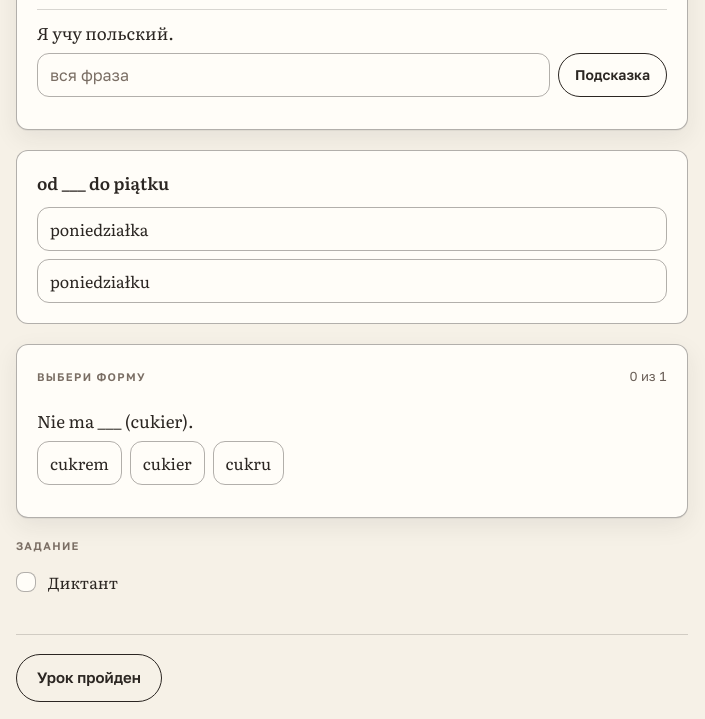
Test: CourseItemPage done bar › marks the lesson done and can undo it
(page scrolled)
Click the button "Урок пройден" at (89, 678), box [16,654,162,702]
(page scrolled)
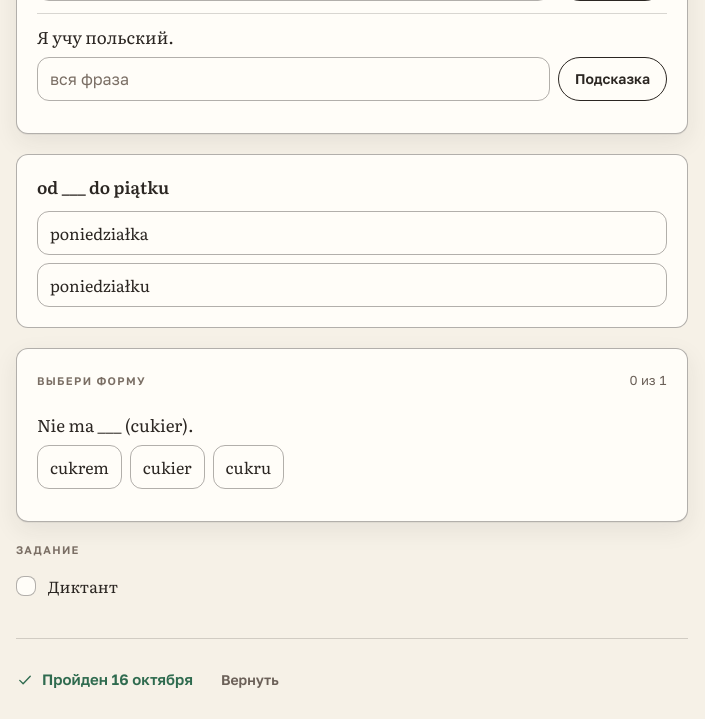
Click the button "Вернуть" at (250, 680), box [205,658,295,702]
(page scrolled)
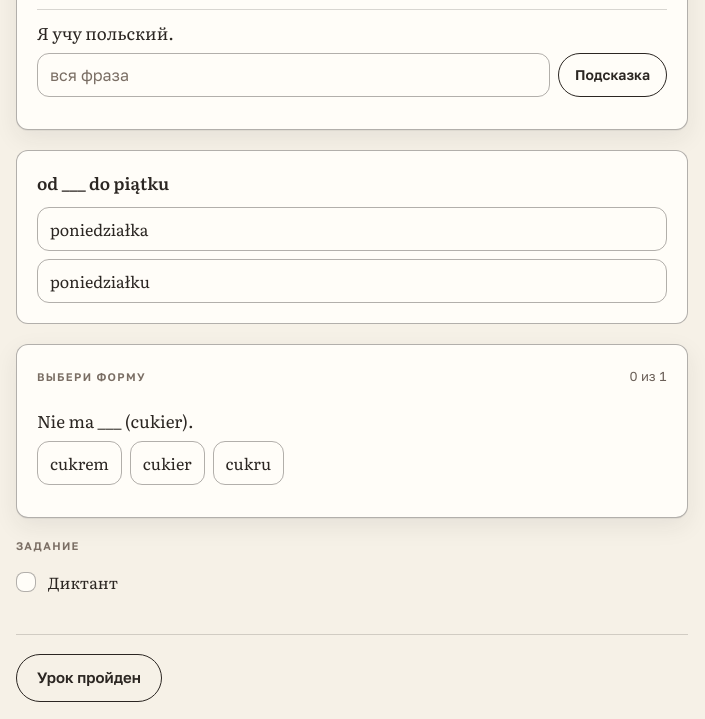
Check: the button "Урок пройден" is shown, box [16,654,162,702]
